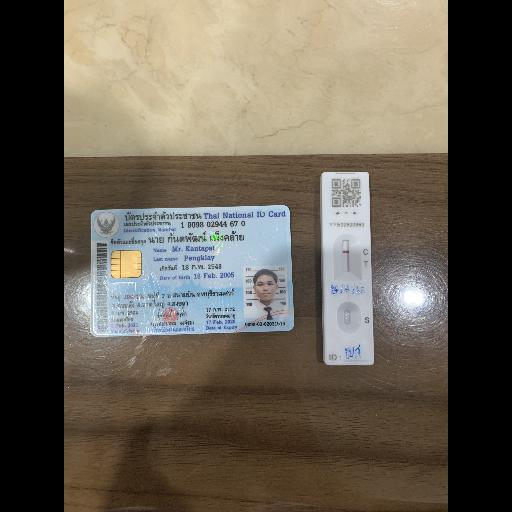Neg: (320, 171, 370, 365)
